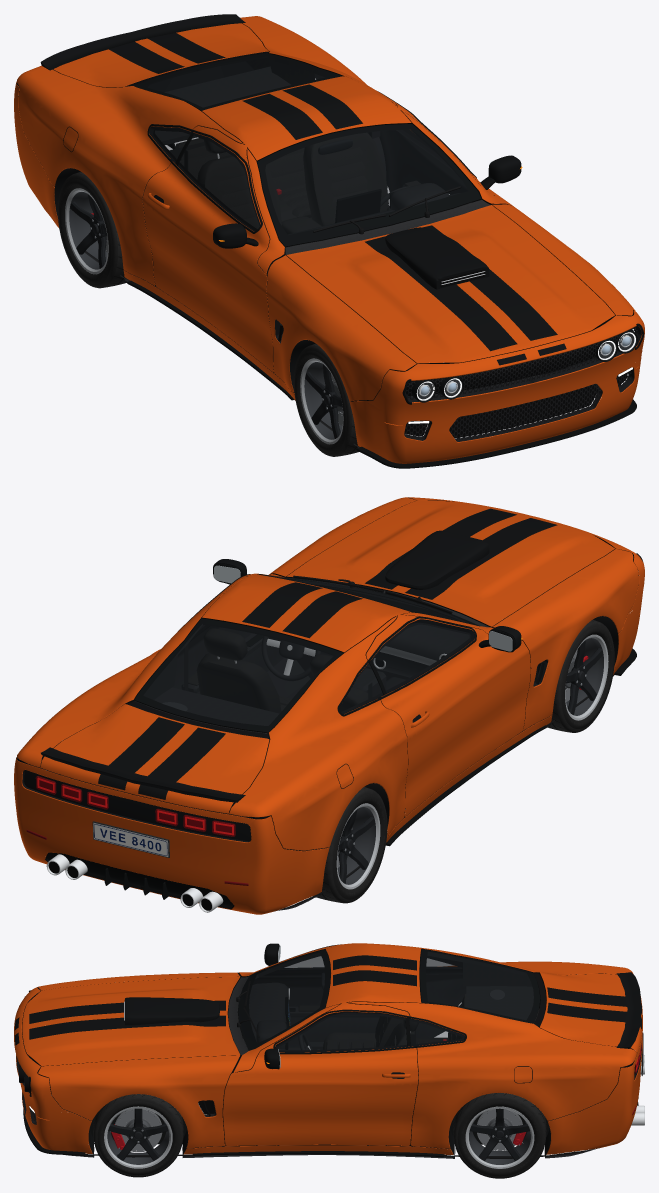
Rendered from muscle-coupe.glb.
3 views of the same model, one above another, from view 1: azimuth 30°, elevation 25°; view 2: azimuth 150°, elevation 25°; view 3: azimuth 270°, elevation 25° (orthographic). The views are drawn at different scales.
Parts seen in each view (by area): view 1: Body, Wheel_RR, Wheel_FR; view 2: Body, Wheel_RR, Wheel_FR, Steering_Wheel; view 3: Body, Wheel_RL, Wheel_FL.
Part boxes in pixels (x1,y1,x2,y2): Body: (14, 14, 644, 468); Wheel_RR: (57, 172, 129, 288); Wheel_FR: (293, 343, 358, 456); Body: (14, 497, 644, 914); Wheel_RR: (313, 787, 387, 903); Wheel_FR: (547, 619, 614, 732); Steering_Wheel: (261, 636, 320, 681); Body: (14, 943, 644, 1158); Wheel_RL: (453, 1093, 546, 1178); Wheel_FL: (93, 1094, 183, 1177).
Bounding box in the file's own units: 2.11 × 1.37 × 4.87.
Materials: 60 (11 with a texture image).
